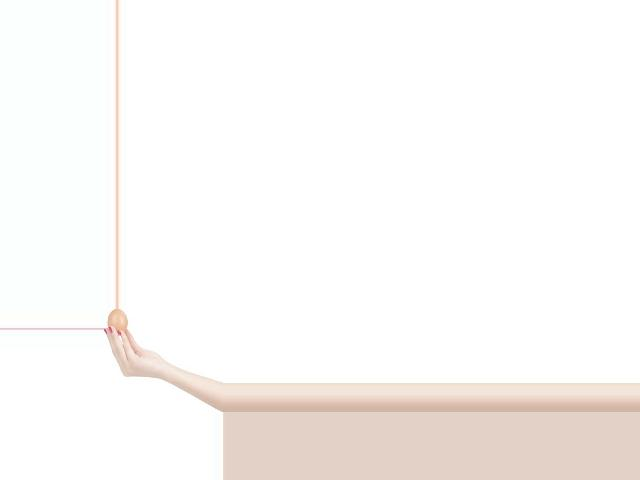egg: (107, 309, 128, 335)
